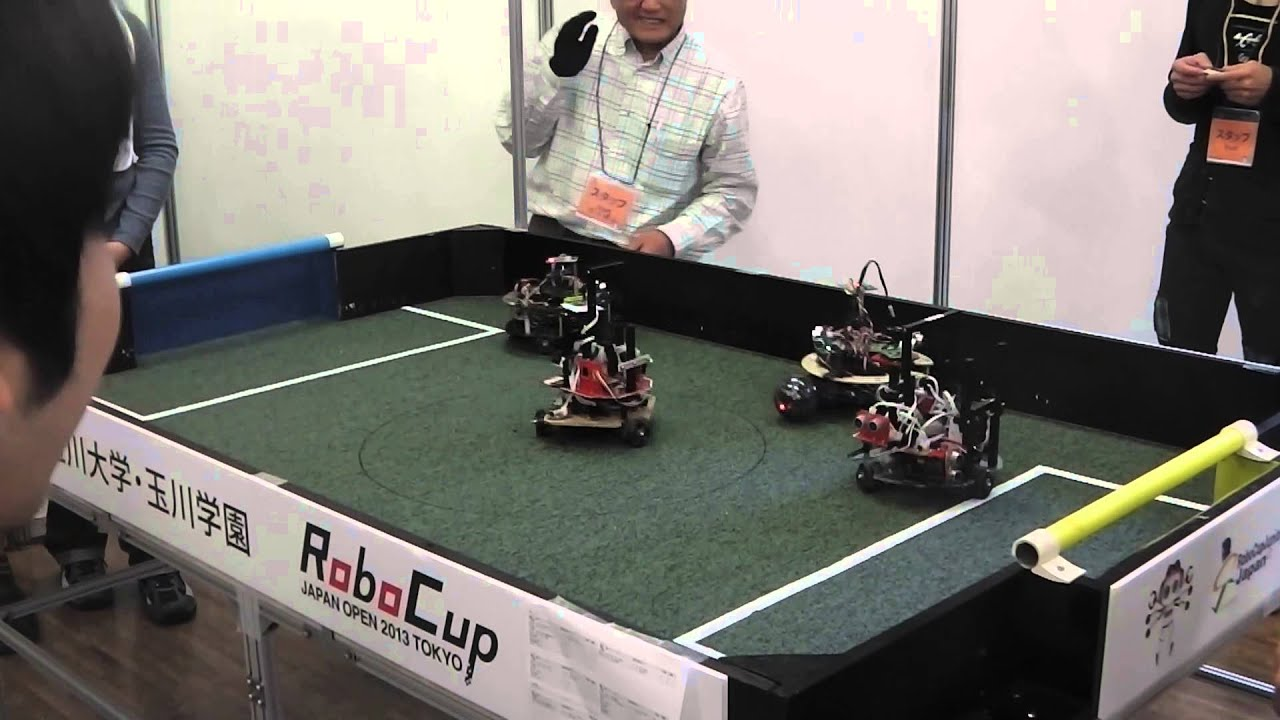Robot: (772, 278, 945, 437), (849, 346, 1004, 503), (538, 319, 666, 450), (498, 236, 625, 358)
